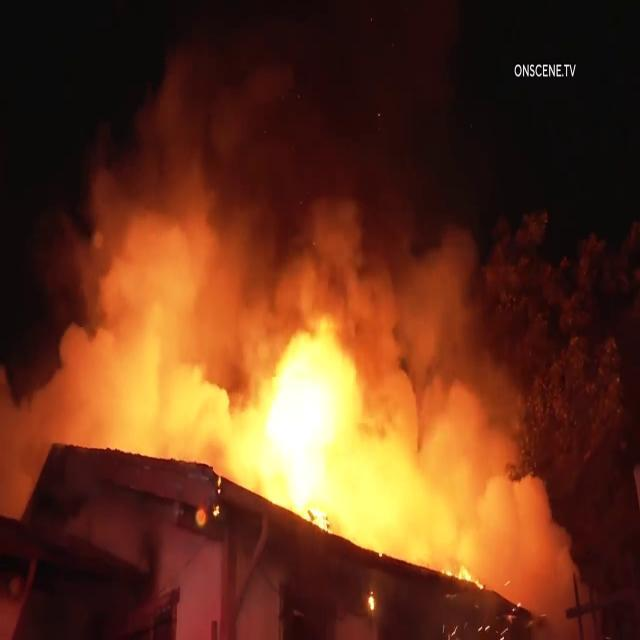Fire: (265, 384, 411, 558)
Smoke: (172, 10, 513, 372), (438, 399, 604, 625), (32, 206, 142, 424)
